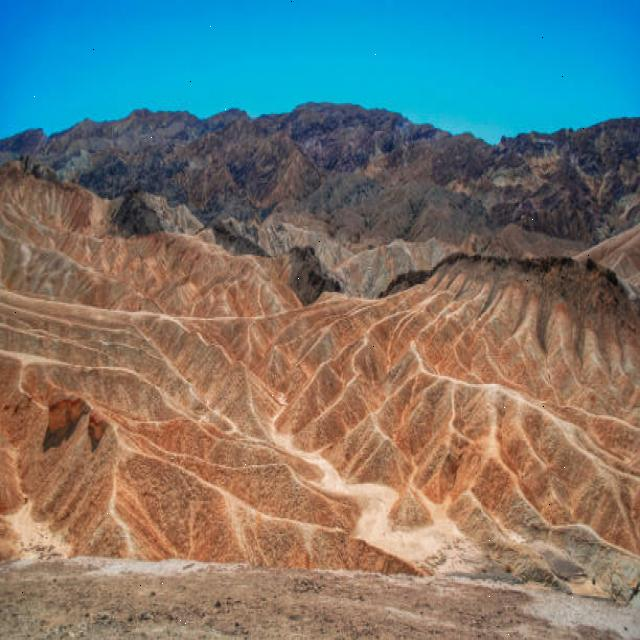Sedimentary: (1, 164, 640, 590)
